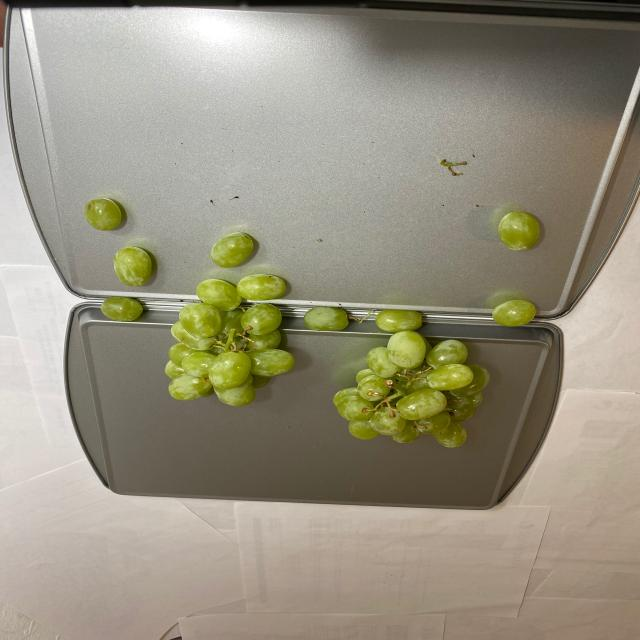Grapes: (92, 198, 534, 448)
